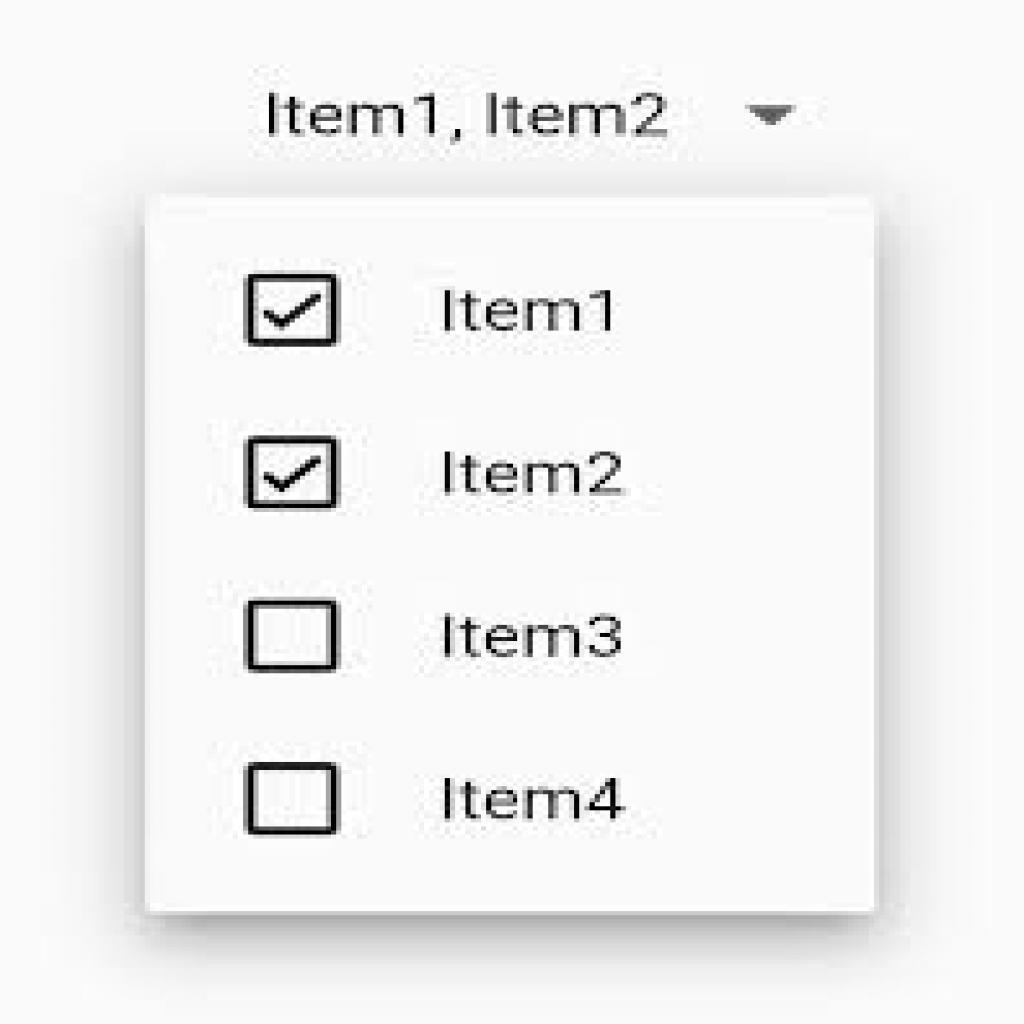checkbox: (245, 761, 343, 838), (245, 434, 337, 515), (245, 272, 335, 347), (246, 600, 341, 670)
icon: (734, 95, 811, 143)
label: (252, 87, 681, 154)
